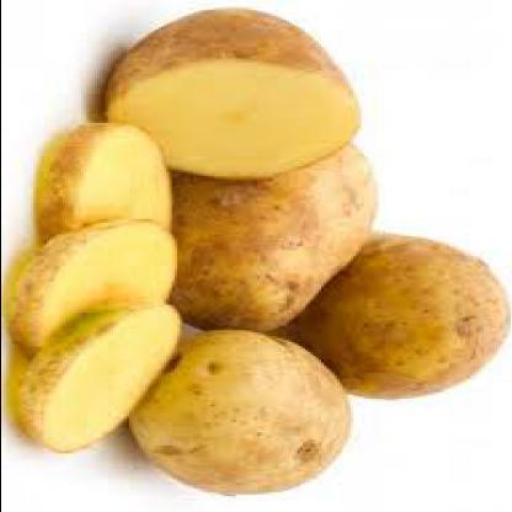biodegradable: (106, 6, 358, 176), (167, 141, 384, 328), (274, 232, 511, 398), (128, 326, 354, 492), (16, 293, 183, 449), (13, 217, 181, 358), (37, 121, 173, 241)
